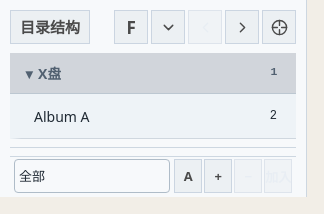
SidebarPanel music interactions › 音乐模式目录节点支持双击折叠/展开
Expected: the button "Album A 2" is shown, x1=22 y1=94 x2=296 y2=138
Double-click the button "▾ X盘 1".
double_click(29, 73)  # box x1=10 y1=53 x2=296 y2=93
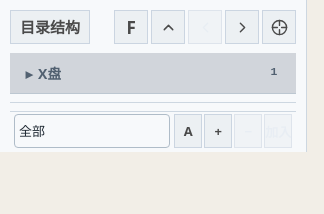
Expected: the button "Album A" is gone
Double-click the button "▸ X盘 1".
double_click(29, 73)  # box x1=10 y1=53 x2=296 y2=93
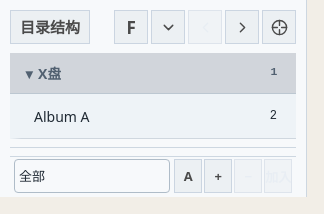
Expected: the button "Album A 2" is shown, x1=22 y1=94 x2=296 y2=138
